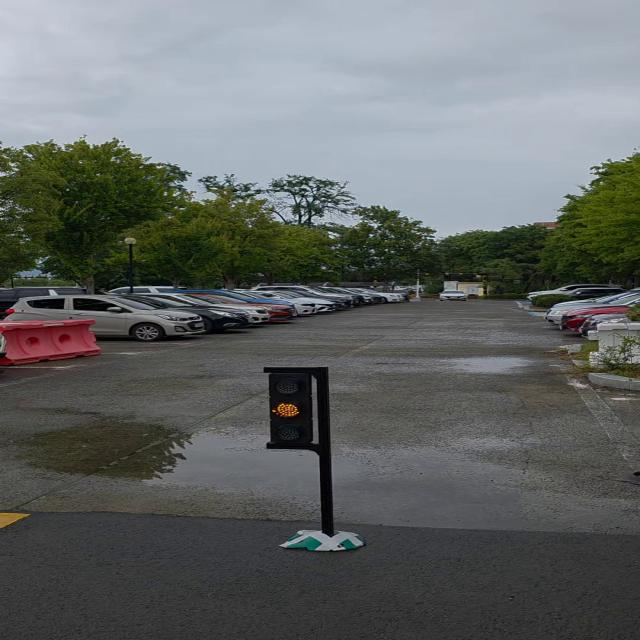yellow: (264, 368, 330, 455)
